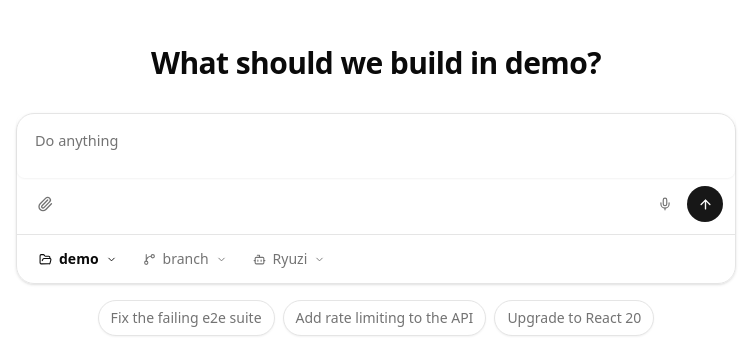
Test: only suggests each effective slash command from the catalog
Type "/" into the text box with placeholder "Do anything" at {"x": 376, "y": 146}, box [17, 114, 735, 178]
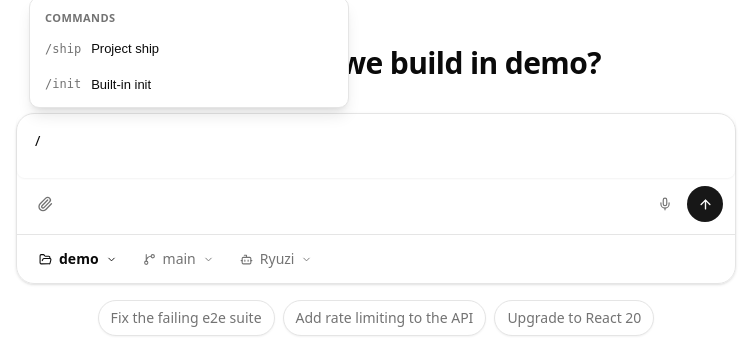
Result: the text "Project ship" is shown at [91, 41, 159, 56]
Result: the text "/ship" is shown once at [45, 40, 81, 58]
Result: the text "Built-in init" is shown at [91, 76, 151, 92]
